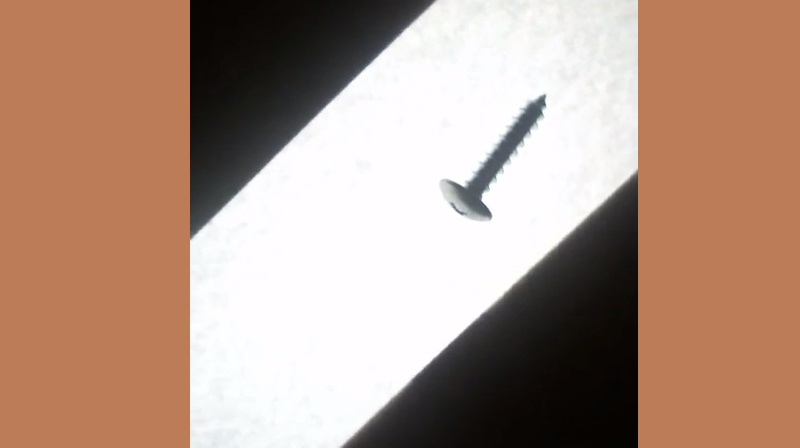S003: (434, 88, 547, 226)
